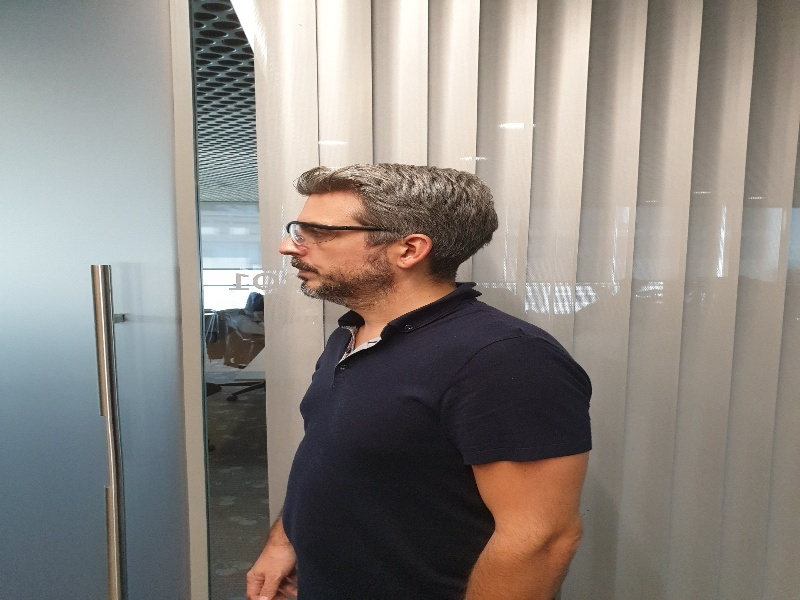Gozluk: (279, 219, 400, 244)
